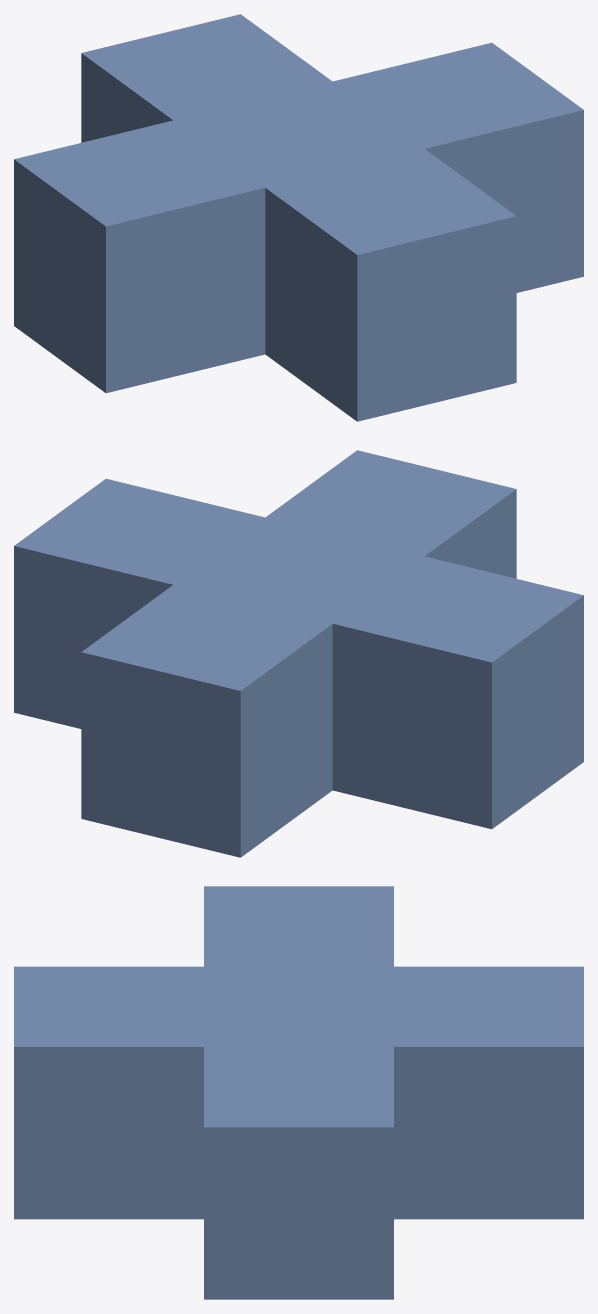
The picture shows the model from 3 angles, top to bottom: view 1: azimuth 30°, elevation 25°; view 2: azimuth 150°, elevation 25°; view 3: azimuth 270°, elevation 25°; orthographic projection. The views are drawn at different scales.
Parts seen in each view (by area): view 1: Cube (×2); view 2: Cube (×2); view 3: Cube (×2).
Boxes of the visible parts, left/top/right/bottom form: Cube (×2): left=14, top=14, right=583, bottom=421; Cube (×2): left=14, top=450, right=583, bottom=857; Cube (×2): left=14, top=886, right=583, bottom=1299.
Size of the model in its own units: 3000 by 1000 by 3000.
